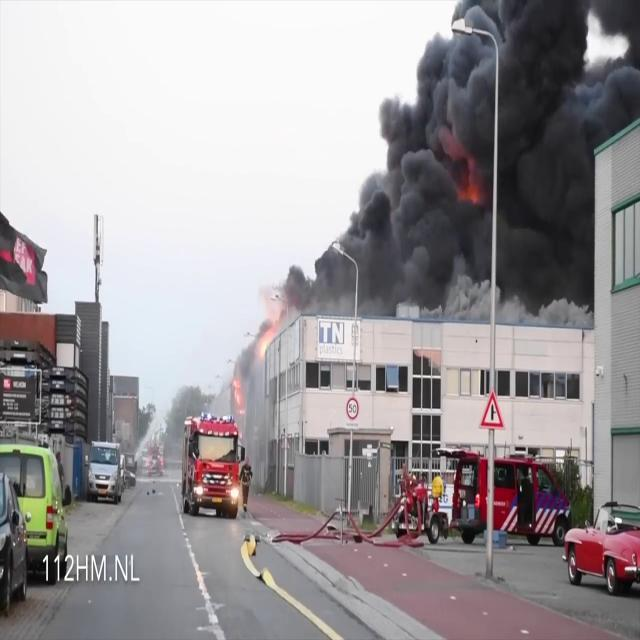Smoke: (271, 0, 638, 328)
